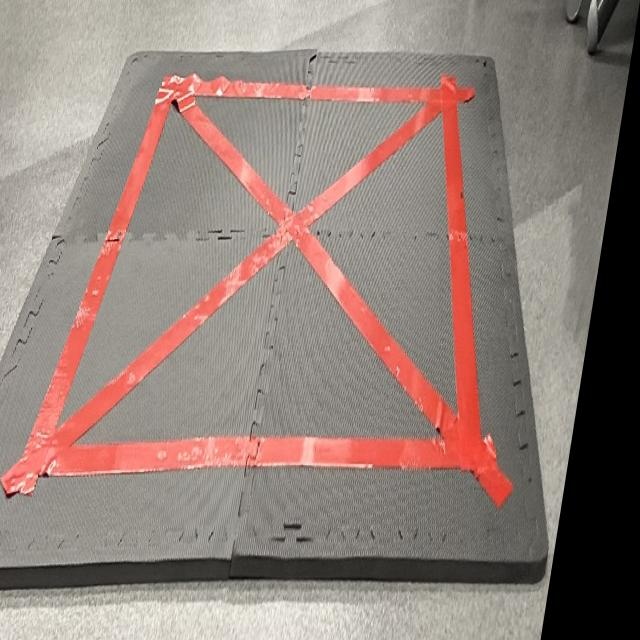landingPads: (0, 52, 628, 588)
